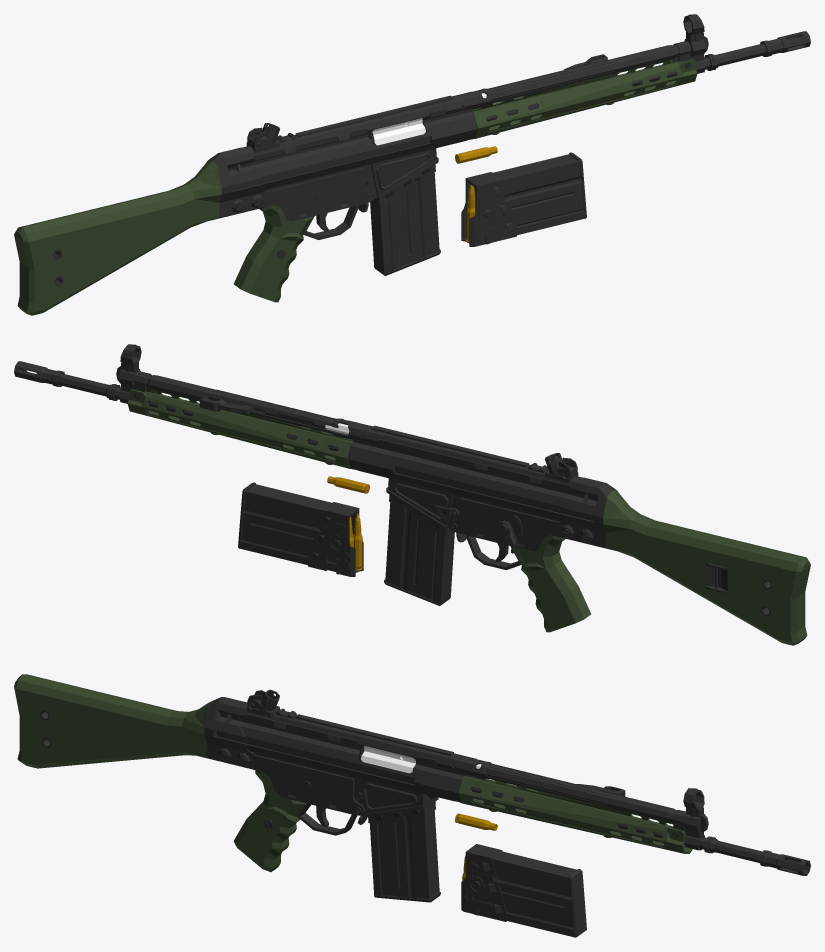
The picture shows the model from 3 angles, top to bottom: view 1: azimuth 30°, elevation 25°; view 2: azimuth 150°, elevation 25°; view 3: azimuth 330°, elevation 25°; orthographic projection.
Visible parts, largest first — view 1: gun_0, 76251 g3mag 30rnd_8, 76251 g3mag 30rnd empty_7, bolt_4, muzzle 76251 g3_9; view 2: gun_0, 76251 g3mag 30rnd_8, 76251 g3mag 30rnd empty_7, muzzle 76251 g3_9, reload handle_10; view 3: gun_0, 76251 g3mag 30rnd_8, 76251 g3mag 30rnd empty_7, bolt_4, muzzle 76251 g3_9.
Part boxes in pixels (x1,y1,x2,y2): gun_0: (14, 14, 766, 315); 76251 g3mag 30rnd_8: (461, 152, 586, 246); 76251 g3mag 30rnd empty_7: (370, 164, 440, 275); bolt_4: (372, 93, 486, 145); muzzle 76251 g3_9: (760, 31, 810, 56); gun_0: (58, 344, 810, 645); 76251 g3mag 30rnd_8: (238, 482, 363, 576); 76251 g3mag 30rnd empty_7: (384, 494, 454, 605); muzzle 76251 g3_9: (14, 361, 64, 386); reload handle_10: (199, 396, 253, 413); gun_0: (14, 674, 762, 872); 76251 g3mag 30rnd_8: (461, 844, 586, 937); 76251 g3mag 30rnd empty_7: (368, 801, 440, 902); bolt_4: (361, 746, 481, 773); muzzle 76251 g3_9: (759, 850, 810, 875).
Size of the model in its own units: 10.42 by 2.32 by 0.463.
